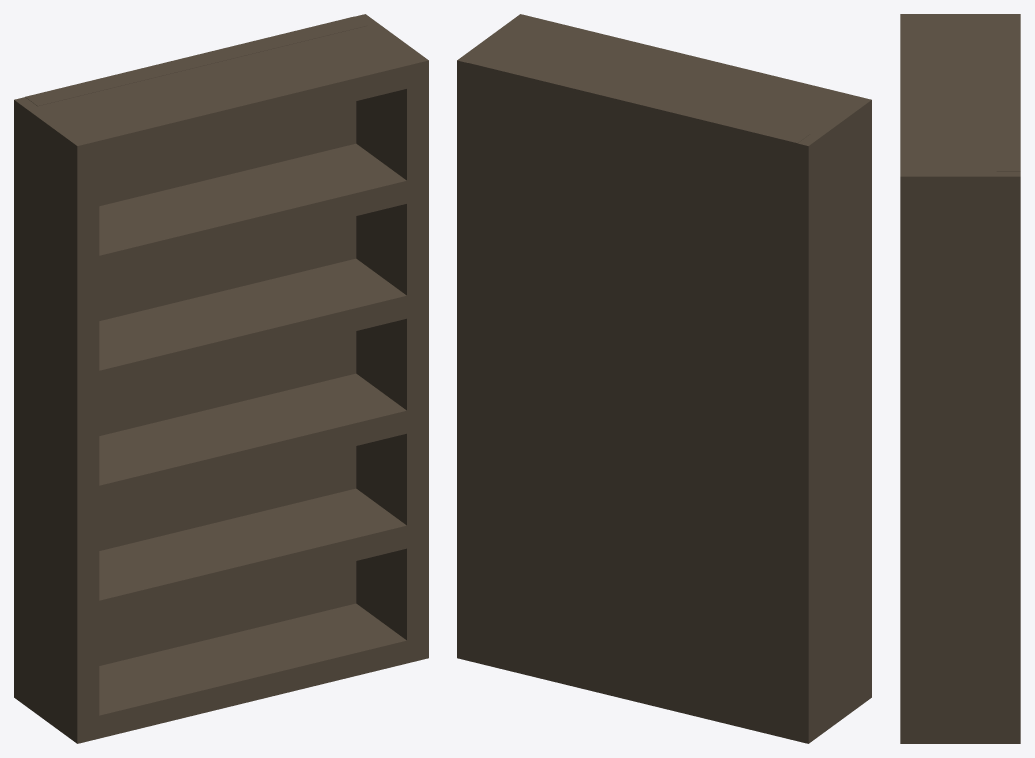
The model's file is ShelvingUnit.fbx.
3 renders of one model, left to right at view 1: azimuth 30°, elevation 25°; view 2: azimuth 150°, elevation 25°; view 3: azimuth 270°, elevation 25°, orthographic. The views are drawn at different scales.
Parts seen in each view (by area): view 1: Bookshelf; view 2: Bookshelf; view 3: Bookshelf.
Part boxes in pixels (x1,y1,x2,y2): Bookshelf: (14, 14, 428, 743); Bookshelf: (457, 14, 871, 743); Bookshelf: (900, 14, 1020, 743).
Size of the model in its own units: 80 by 130 by 25.
